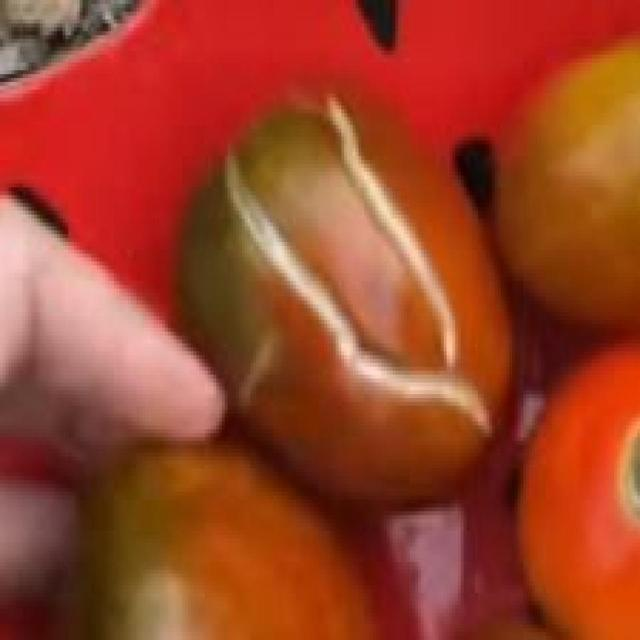Cracking Fruit: (121, 147, 252, 214)
